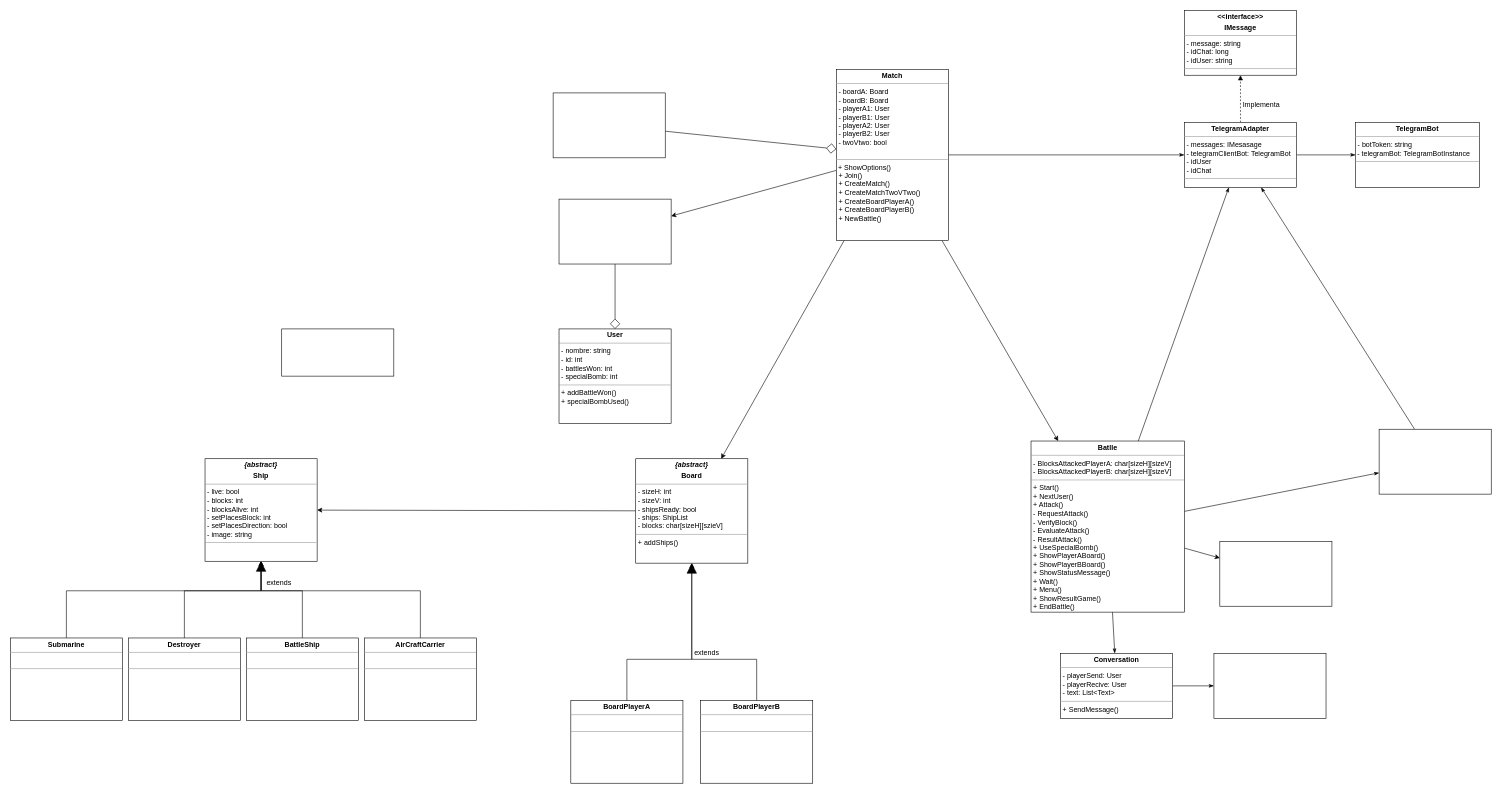
Image size: 1502x794. Some labels were removed from this diagram. The box of each missing label's shape, as (x1, y1, x2, y2) in pixels:
CombinedImage + MergeMultipleImage(): (1379, 429, 1491, 494)
MatchList - activeMatches: List<Match> + addMatch: (553, 92, 665, 158)
Menu + ShowOption(): (1219, 541, 1332, 606)
Singleton: (281, 328, 394, 376)
Text - text: string - user: User: (1213, 653, 1326, 718)
UserList - players: List<User> + addUsers(User): (558, 199, 671, 264)
